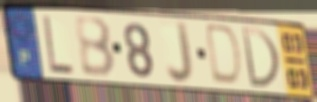8: (123, 21, 156, 79)
B: (72, 15, 118, 80)
D: (239, 24, 282, 91), (205, 22, 244, 89)
J: (164, 19, 196, 87)
L: (41, 13, 77, 77)
